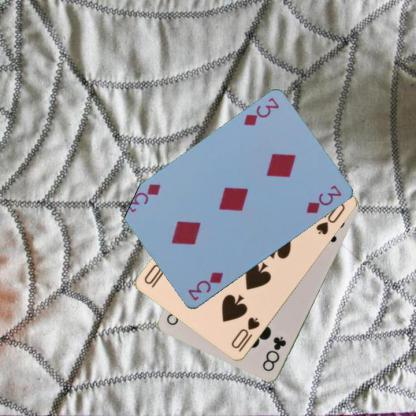10s: (228, 314, 261, 354)
3d: (184, 269, 225, 302), (240, 94, 281, 127)
8c: (259, 334, 288, 373)
